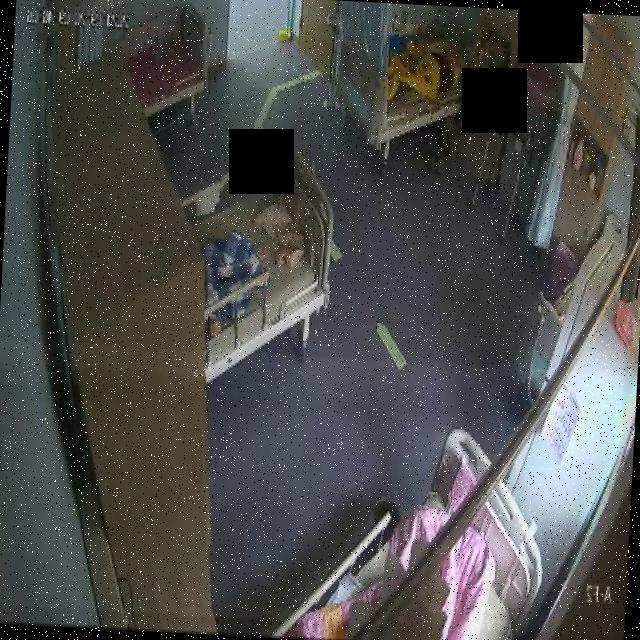bed: (306, 422, 549, 640), (192, 138, 338, 388), (336, 19, 468, 151), (127, 0, 222, 110)
